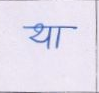aa_matra: (56, 29, 61, 48)
